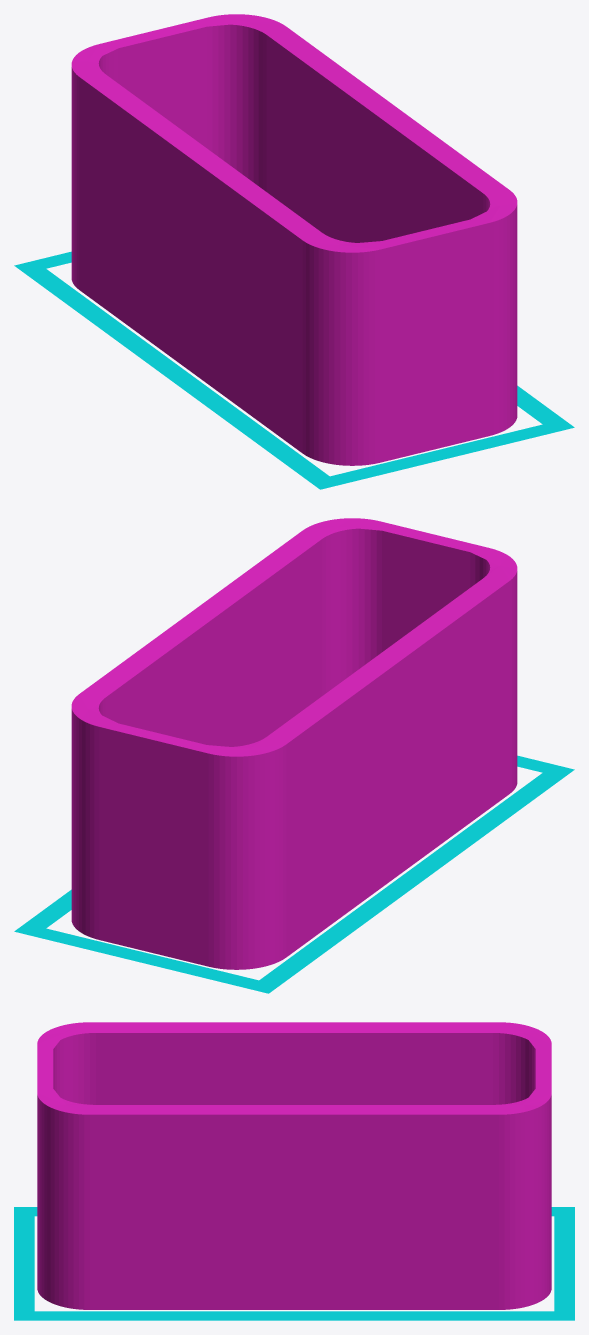
File: carPark.fbx
3 renders of one model, top to bottom at view 1: azimuth 30°, elevation 25°; view 2: azimuth 150°, elevation 25°; view 3: azimuth 270°, elevation 25°, orthographic. The views are drawn at different scales.
Parts seen in each view (by area): view 1: Plane; view 2: Plane; view 3: Plane.
Boxes of the visible parts, bbox=[...] form: Plane: bbox=[14, 14, 574, 489]; Plane: bbox=[14, 518, 574, 993]; Plane: bbox=[14, 1022, 574, 1320].
Bounding box in the file's own units: 239 × 191 × 498.
